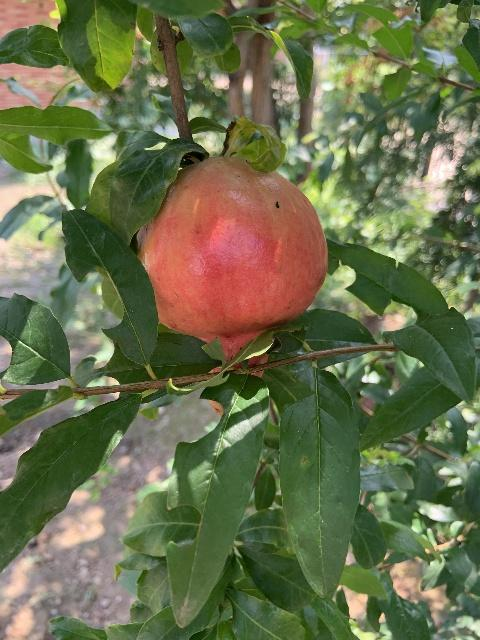ripe: (136, 157, 327, 415)
